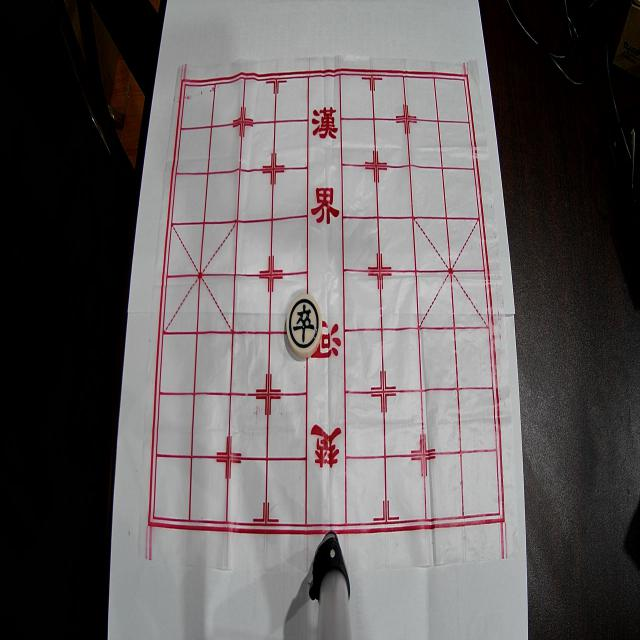black-soldier: (286, 294, 322, 359)
